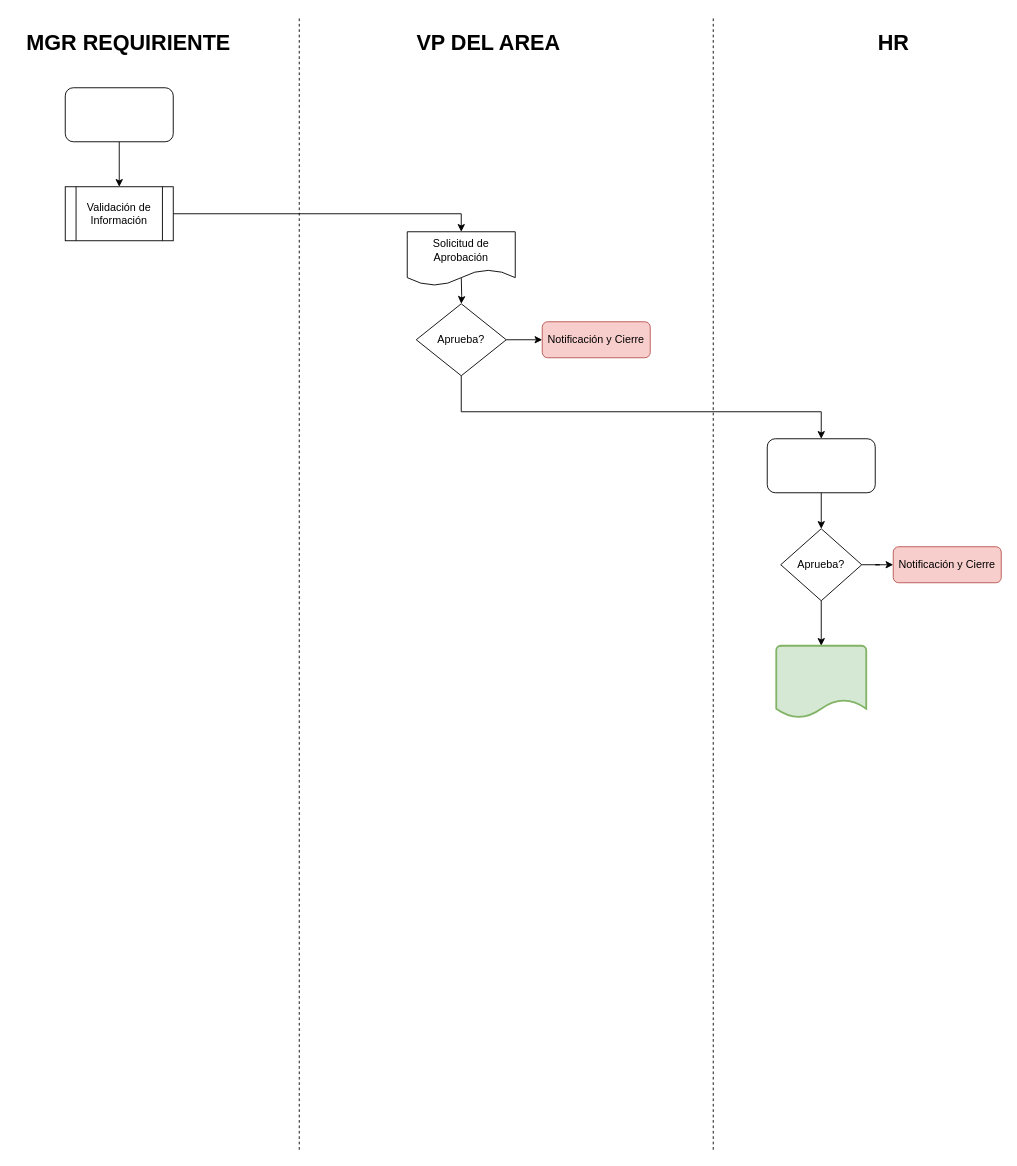
Image size: 1017x1166. Some labels were removed from this diagram. Here are the shapes that lost their labels. From the top down, the box of each, then its label:
(64, 87, 173, 142): Carga de Solicitud en SharePoint / Form
(766, 438, 875, 493): Validación: -Costos -Rango Salarial
(775, 644, 867, 718): Formulario Aprobado
